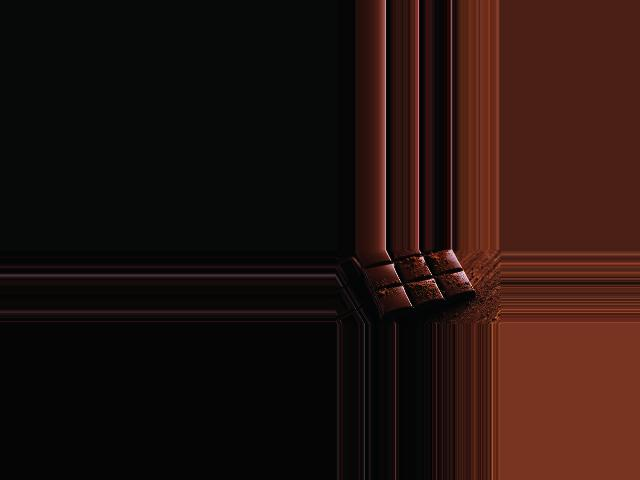chocolate: (354, 250, 480, 317)
